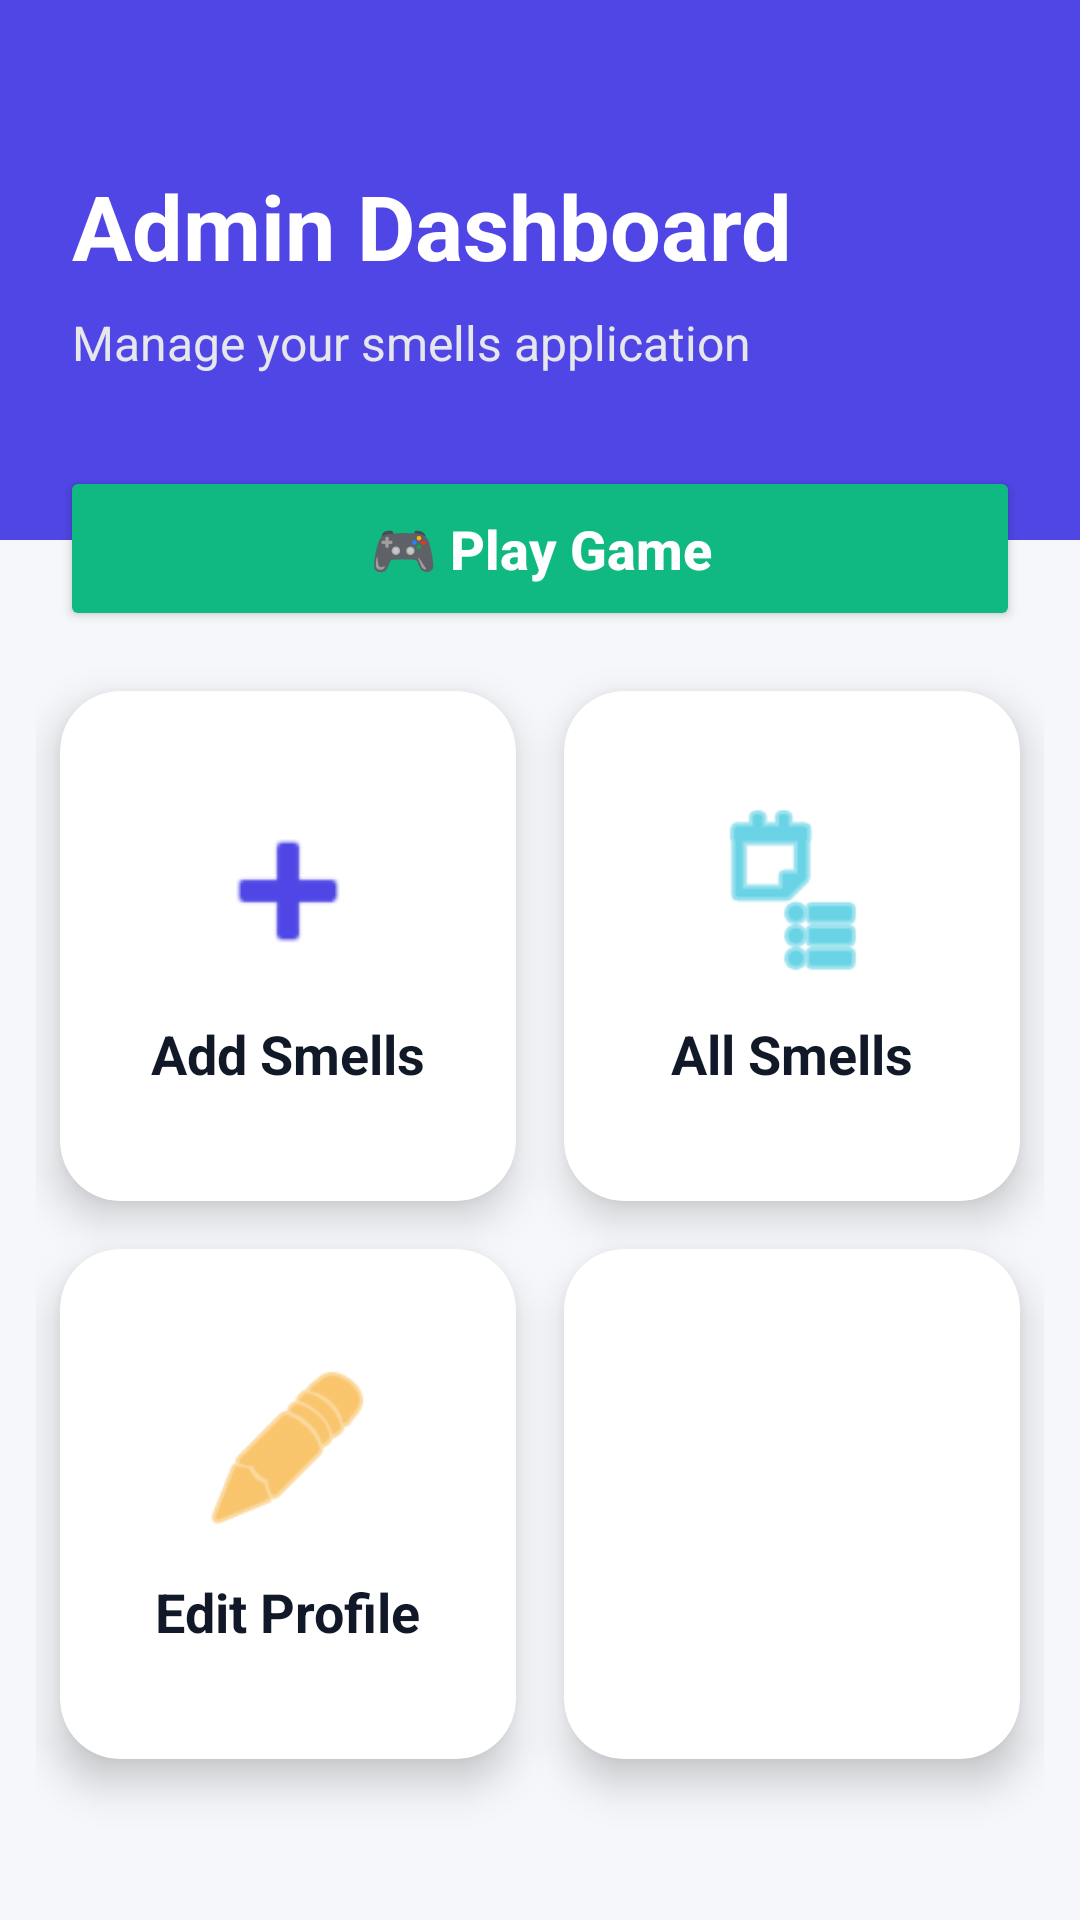

Icons on this 1080px×1920px Android screen, each with its box as [left=x1, top=y1, right=x2, bottom=y2]:
agenda: [left=730, top=810, right=856, bottom=970]
